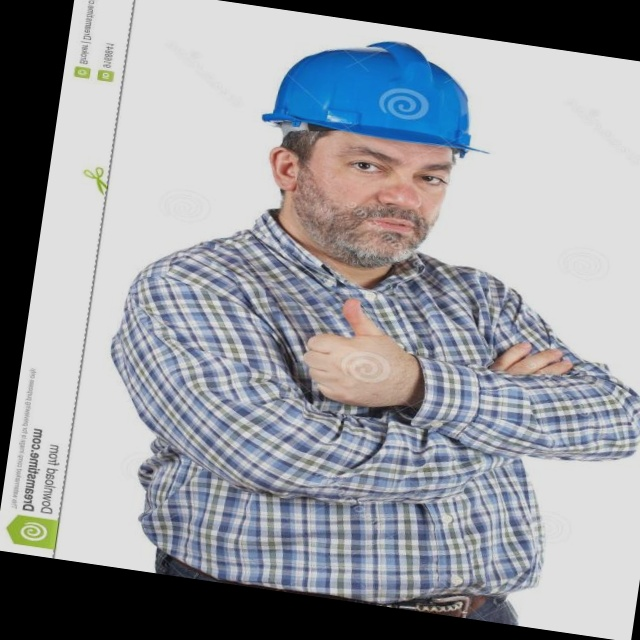Con_Casco: (248, 27, 484, 262)
